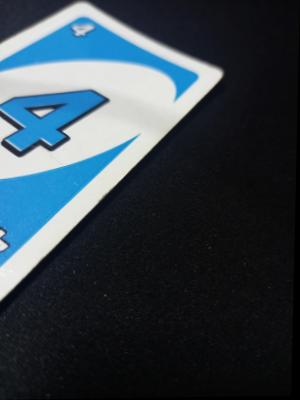blue: (6, 19, 106, 227)
num_4: (66, 18, 98, 42)
